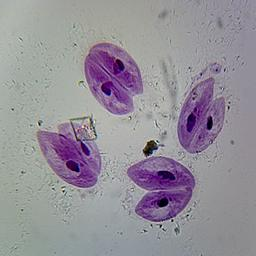Paramecium: (127, 156, 195, 221), (85, 41, 143, 114), (36, 123, 101, 187), (178, 75, 224, 153)
